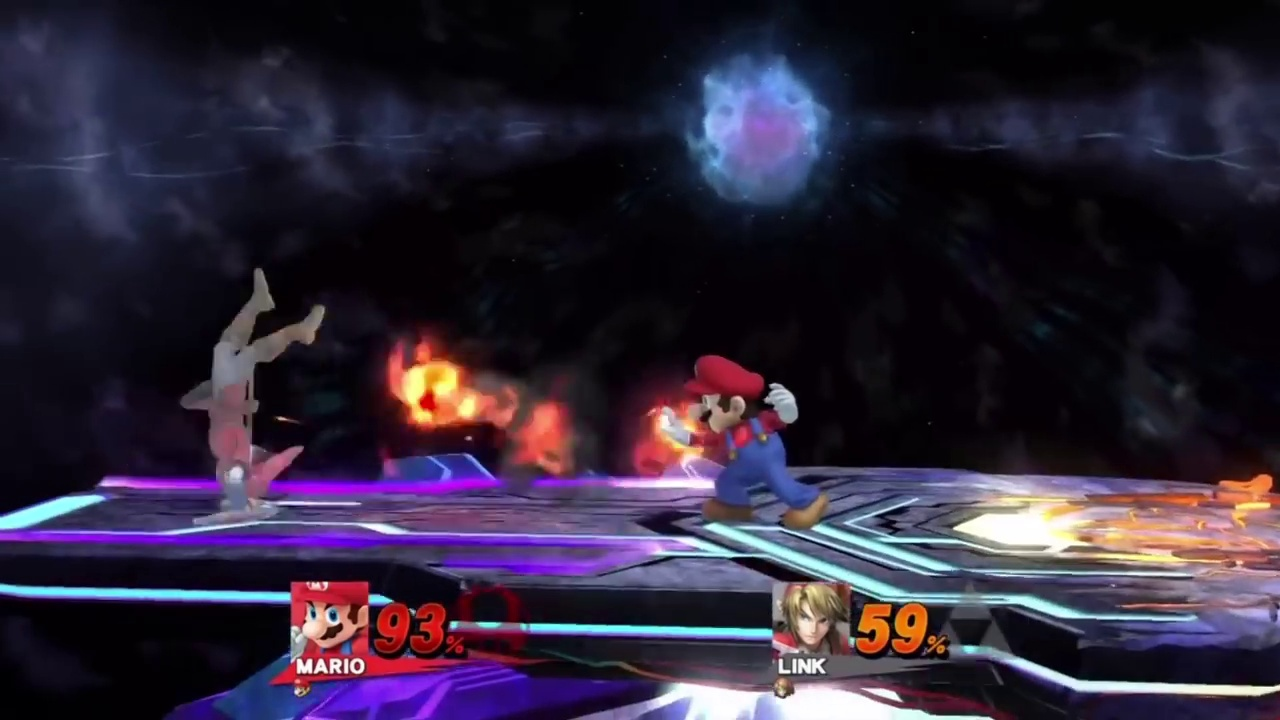Mario: (657, 350, 830, 531)
